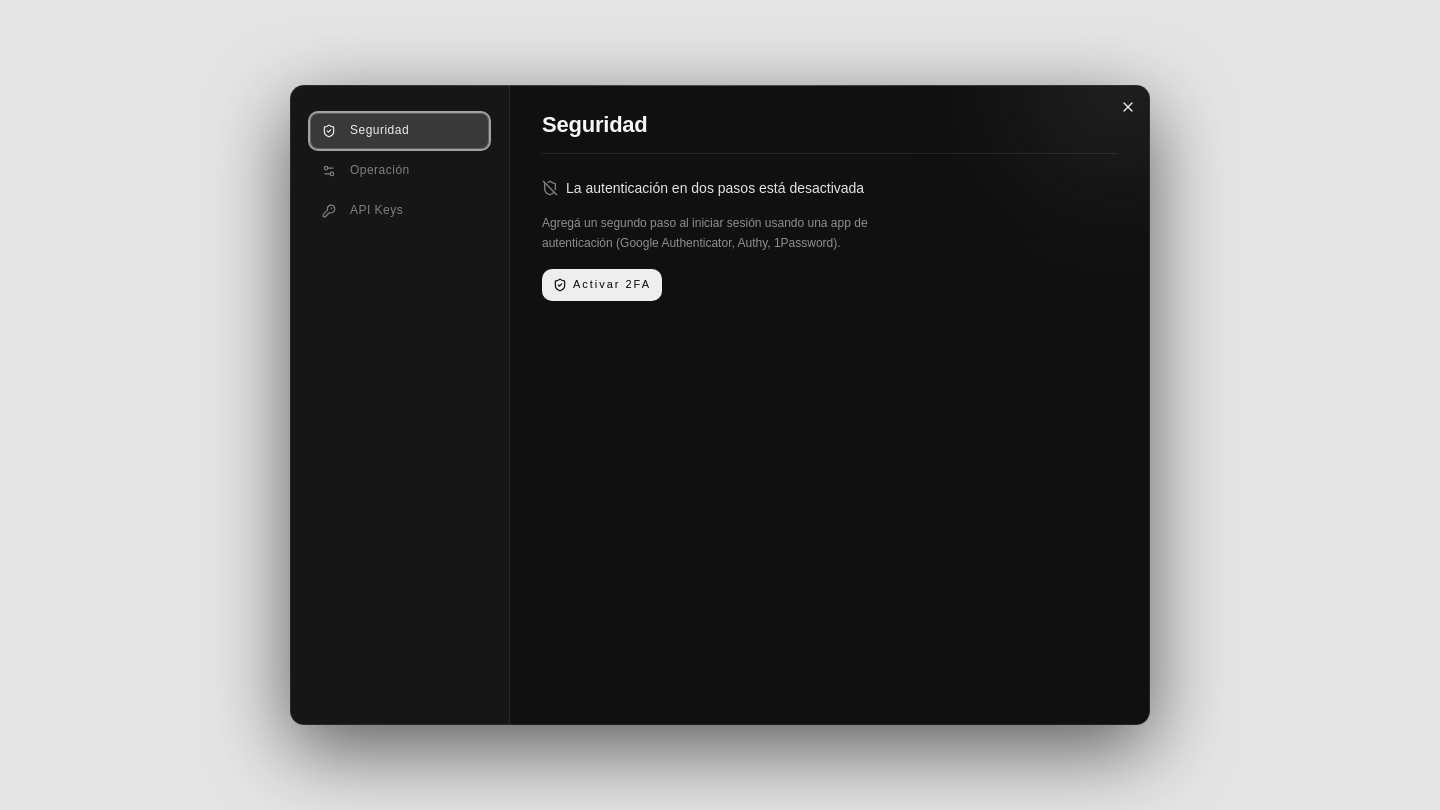
it: SettingsDialog › switches to the operation tab and shows the current-mode badge
This screenshot has width=1440, height=810.
Expected: the heading "Seguridad" is shown, [542,112,648,137]
What coordinates should you click on to do the following:
click the tab "Operación"
I would click on:
 (400, 171)
Its box is [310,153,489,189].
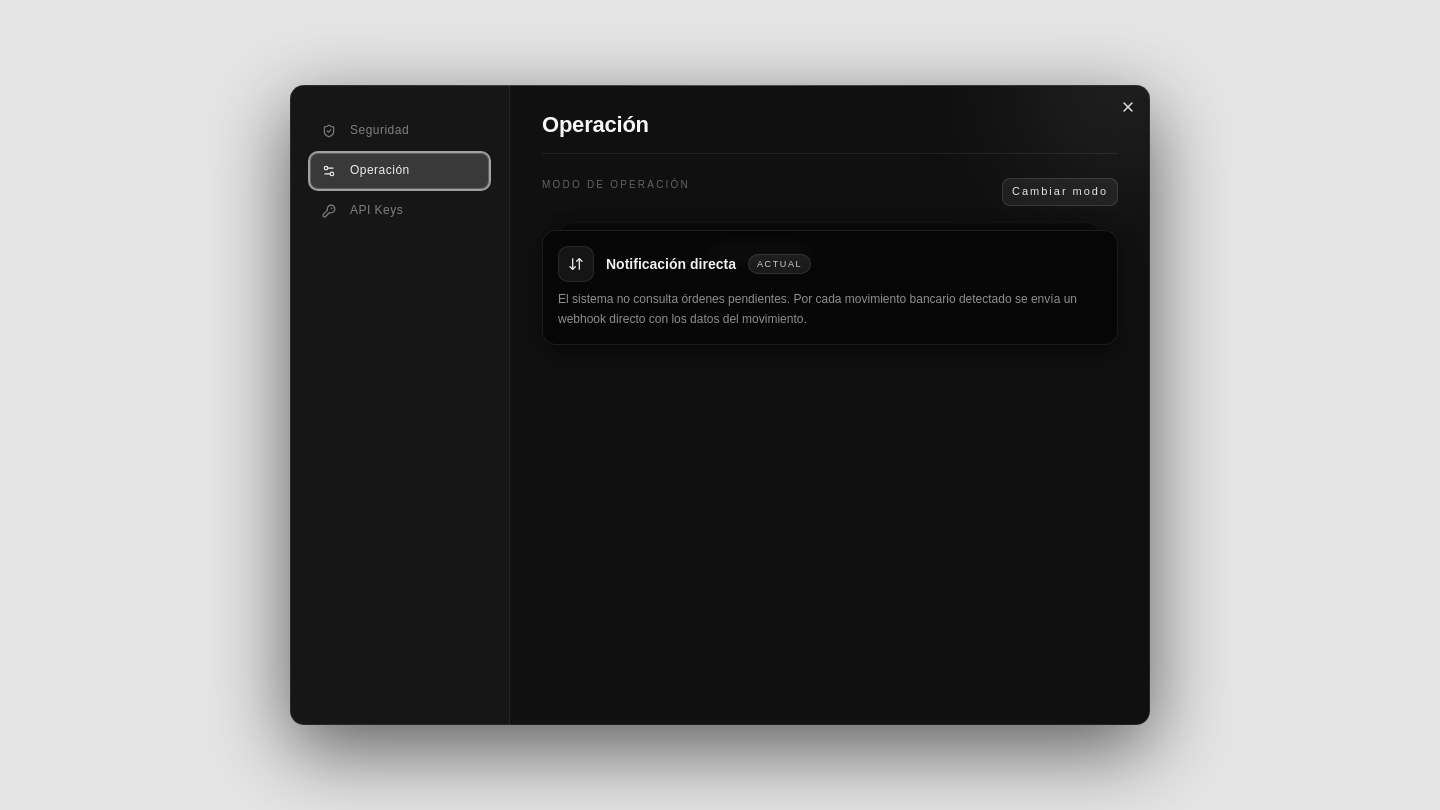
Expected: the text "Actual" is shown, [748,254,811,274]
Expected: the button "Cambiar modo" is shown, [1002,178,1118,206]
